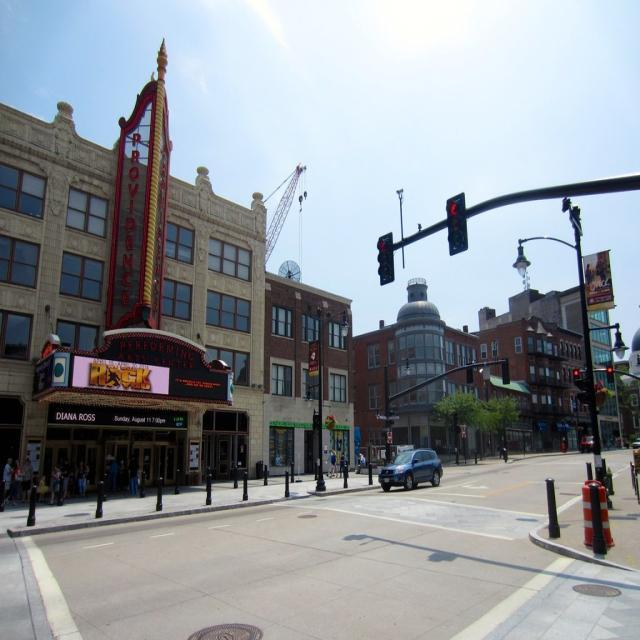traffic light: (448, 192, 468, 255), (378, 233, 395, 285)
